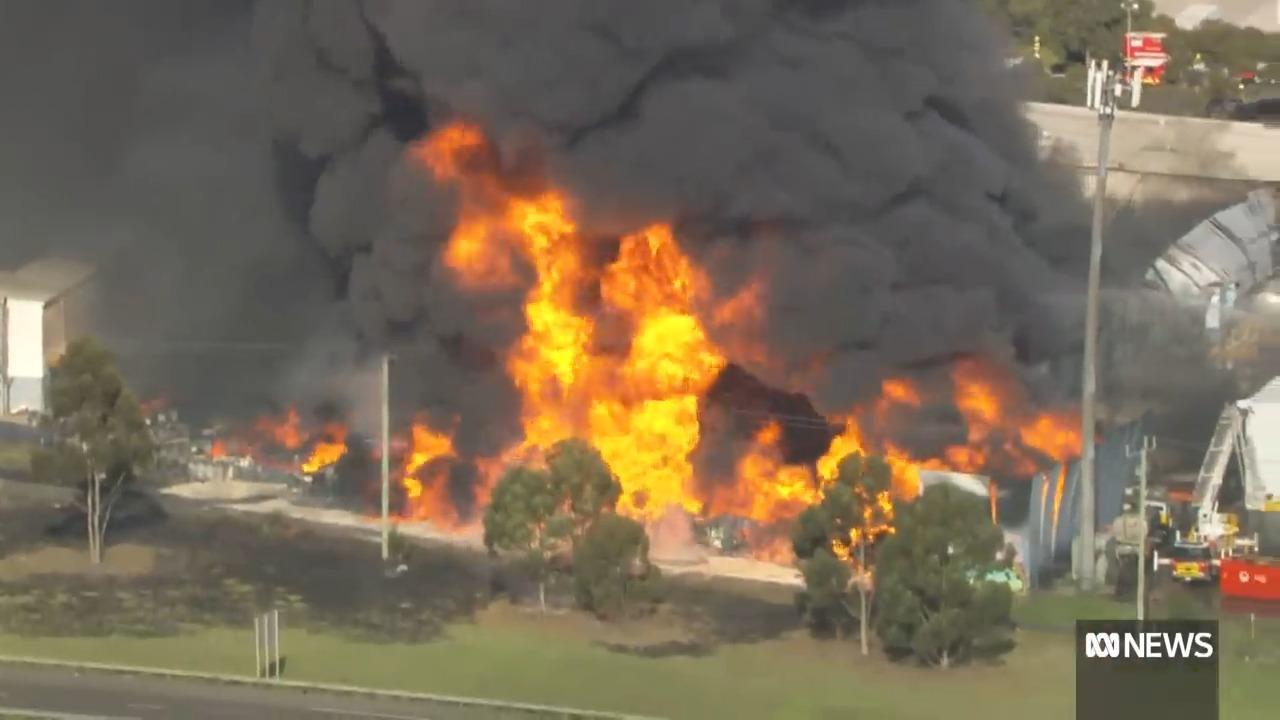fire: (215, 168, 1069, 585)
